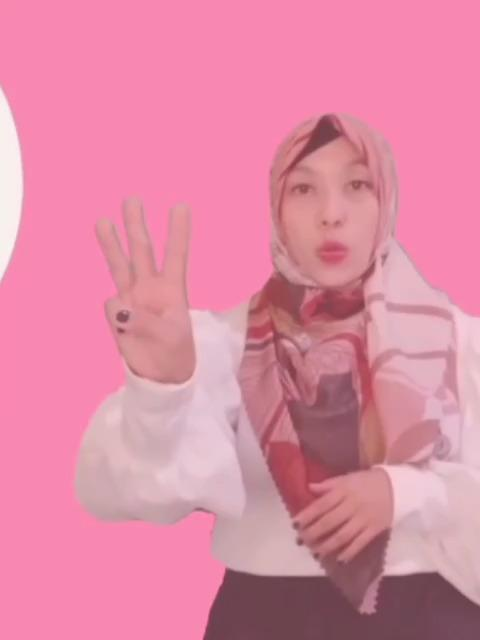W: (93, 193, 194, 379)
